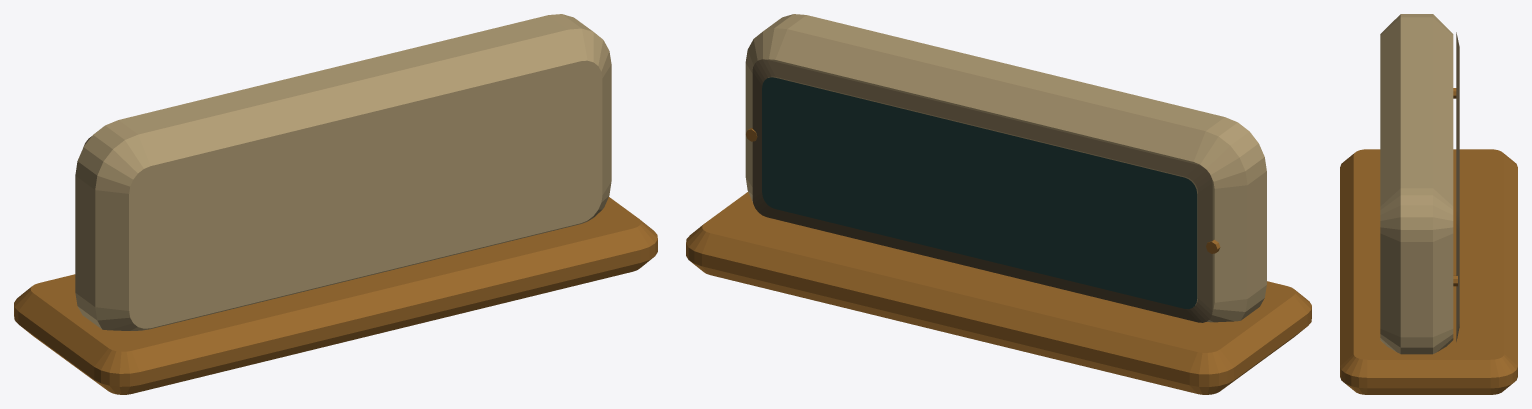
Rendered from next_sign.obj.
3 renders of one model, left to right at view 1: azimuth 30°, elevation 25°; view 2: azimuth 150°, elevation 25°; view 3: azimuth 270°, elevation 25°, orthographic. The views are drawn at different scales.
Parts seen in each view (by area): view 1: sign_casing, sign_base; view 2: runtime_next, sign_base, sign_casing, sign_recess; view 3: sign_base, sign_casing, sign_recess.
Boxes of the visible parts, x1,y1,x2,y2 form: sign_casing: [75, 14, 611, 330]; sign_base: [14, 197, 657, 394]; runtime_next: [762, 77, 1197, 309]; sign_base: [686, 192, 1311, 394]; sign_casing: [745, 14, 1266, 322]; sign_recess: [752, 59, 1212, 322]; sign_base: [1340, 149, 1517, 394]; sign_casing: [1380, 14, 1453, 354]; sign_recess: [1456, 32, 1459, 341].
Bounding box in the file's own units: 0.65 × 0.255 × 0.22.
